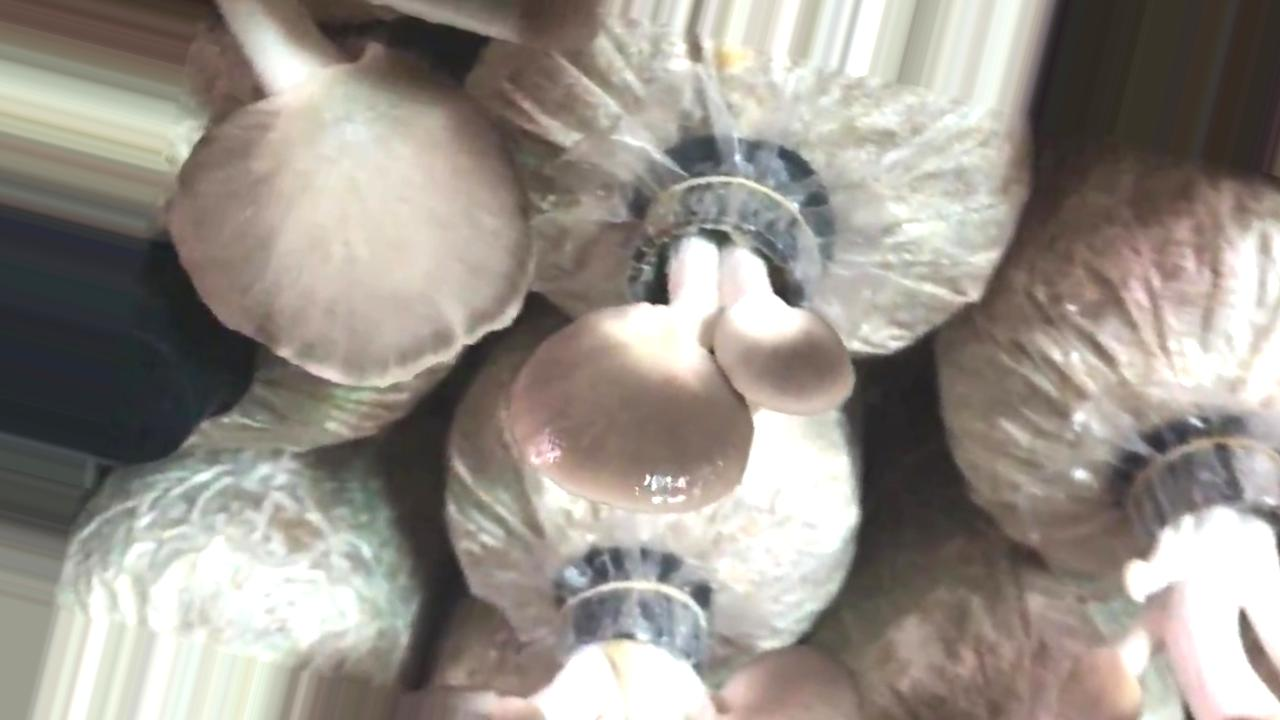nam: (161, 1, 624, 391), (506, 181, 861, 521), (1056, 432, 1280, 720)
